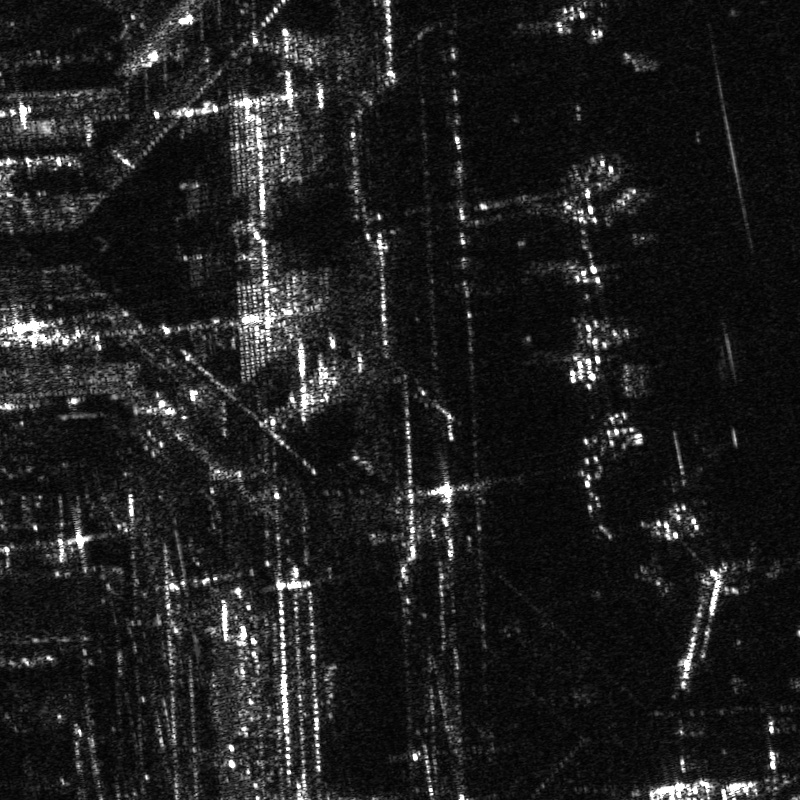A320/321: (562, 142, 676, 245)
